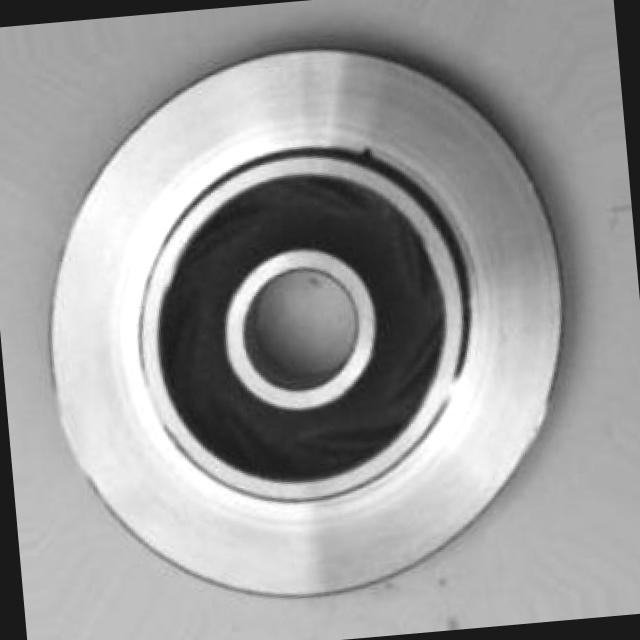Defect: (360, 146, 382, 161)
